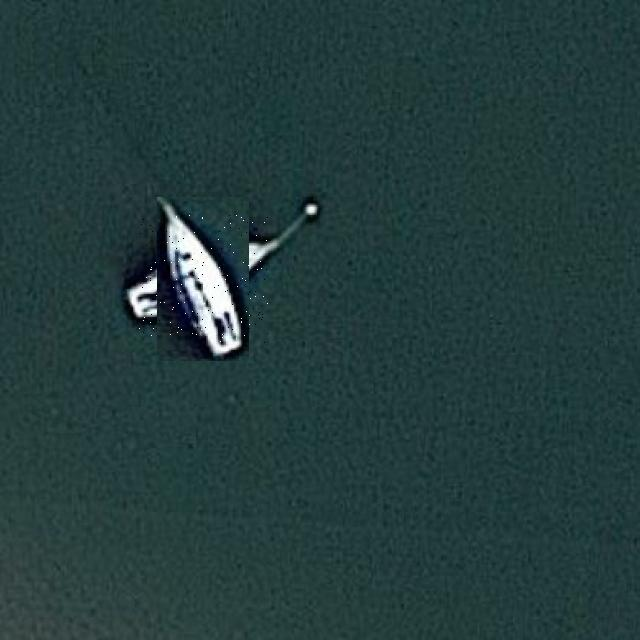boat: (139, 215, 268, 343)
